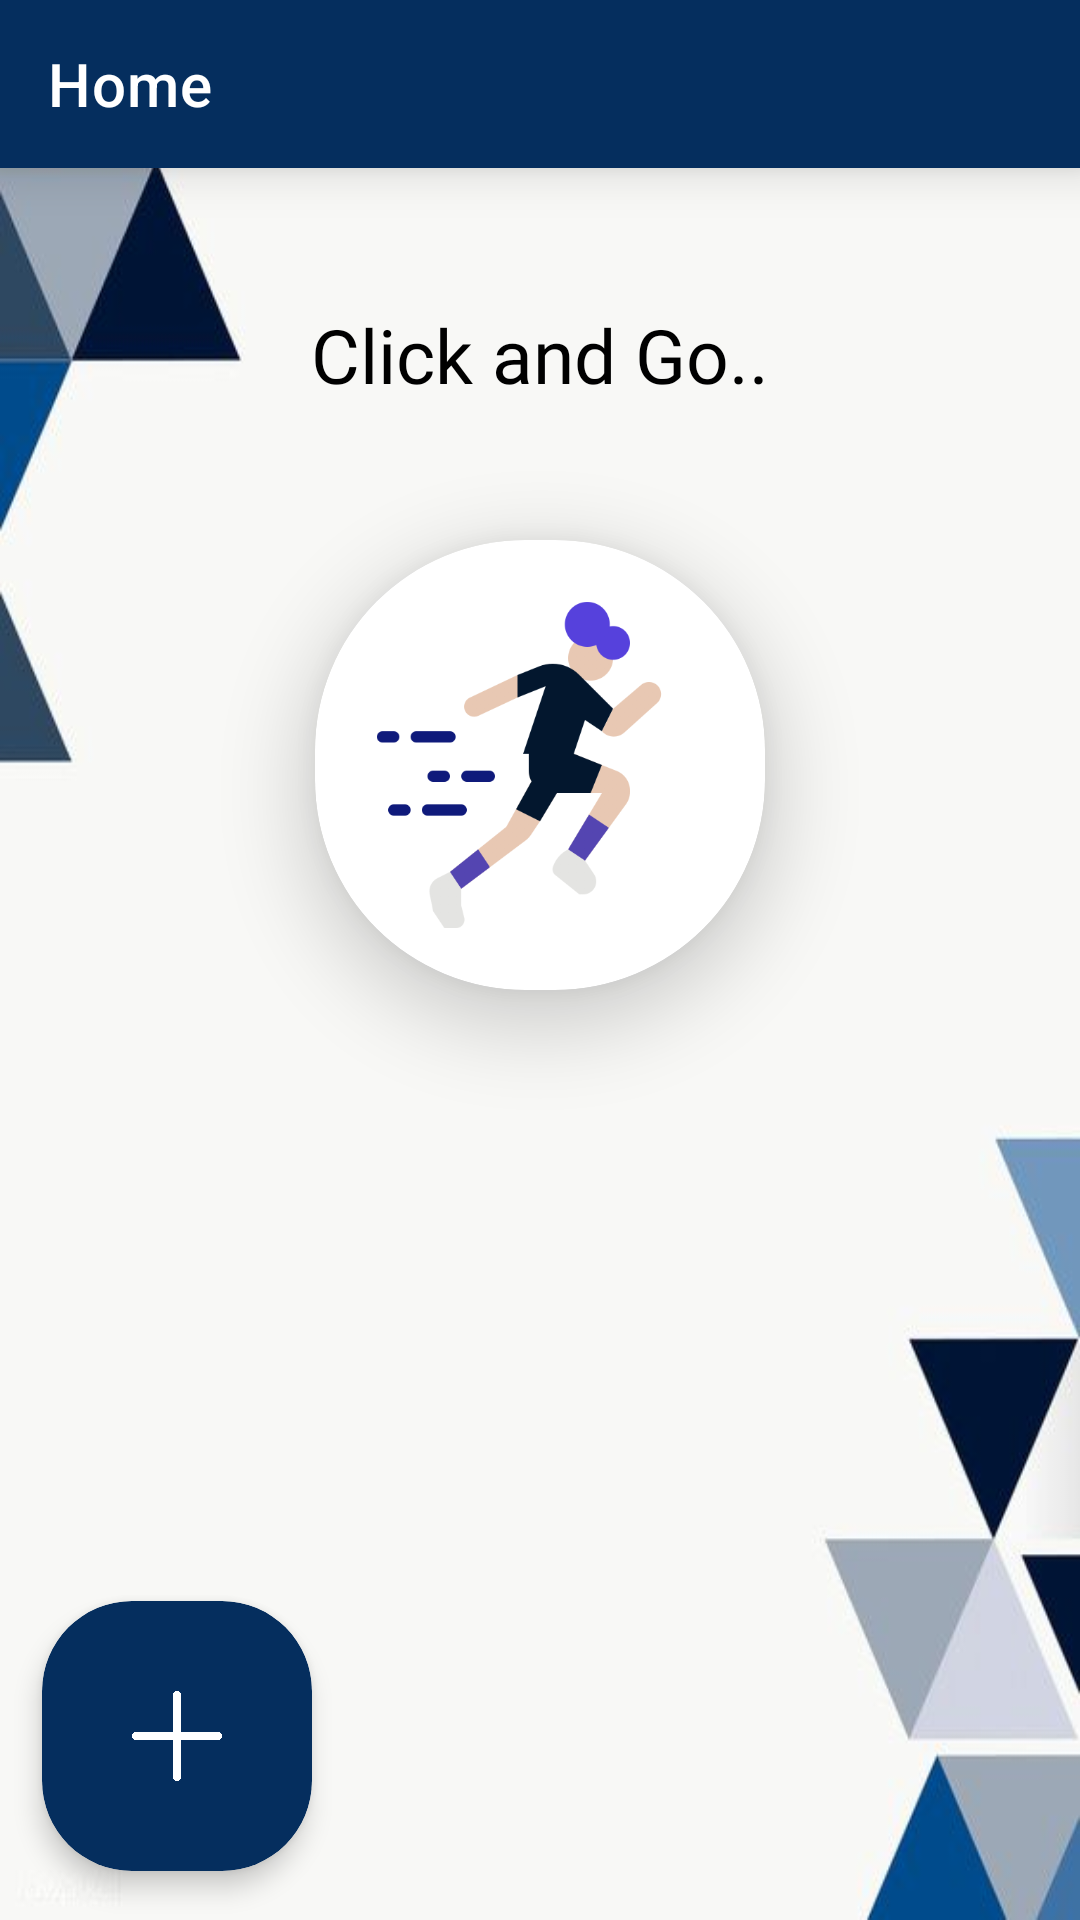

Screen size 1080*1920. Icon name, then its center in pixels as (x,y):
plus: (177,1736)
